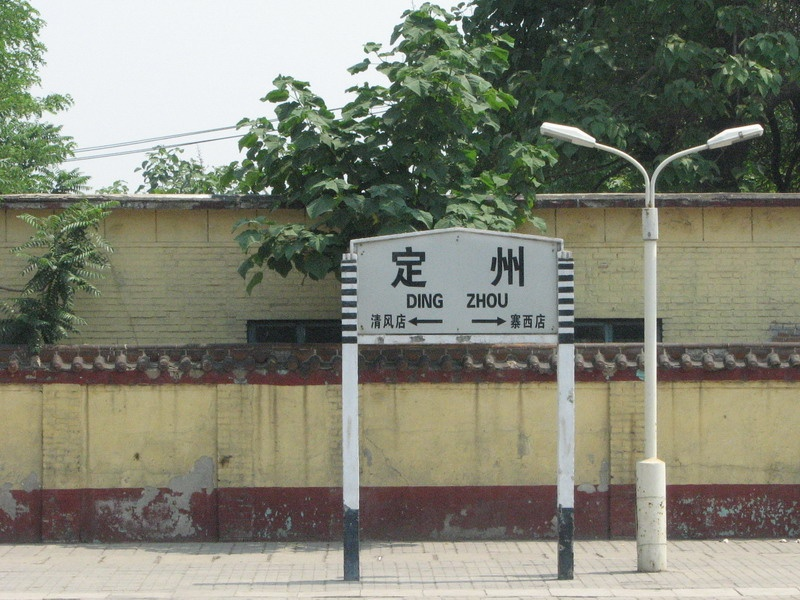text: (386, 246, 401, 290), (402, 246, 417, 290), (418, 246, 433, 290), (434, 246, 449, 290), (450, 246, 465, 290), (466, 246, 481, 290), (482, 246, 497, 290), (498, 246, 513, 290), (514, 246, 529, 290), (402, 293, 417, 310), (418, 293, 433, 310), (434, 293, 449, 310), (364, 313, 379, 330), (380, 313, 395, 330), (396, 313, 411, 330), (504, 313, 519, 330), (520, 313, 535, 330), (536, 313, 551, 330), (464, 294, 479, 309), (480, 294, 495, 309), (496, 294, 511, 309)
